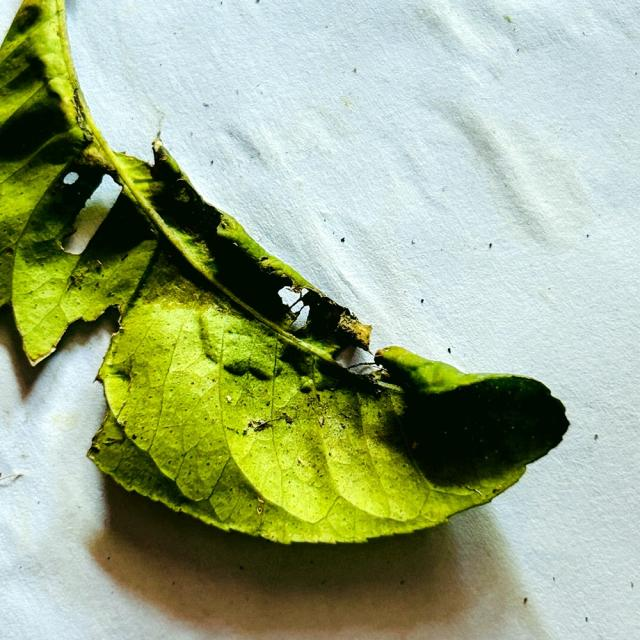Deficiency Leaf: (29, 307, 112, 432), (307, 234, 380, 312), (61, 175, 122, 259), (333, 345, 375, 372), (62, 228, 95, 255), (147, 104, 166, 148), (285, 300, 311, 332), (96, 304, 123, 333), (277, 285, 303, 313), (350, 360, 385, 377), (63, 172, 79, 184), (256, 496, 265, 514)
Lemon: (0, 0, 568, 543)
